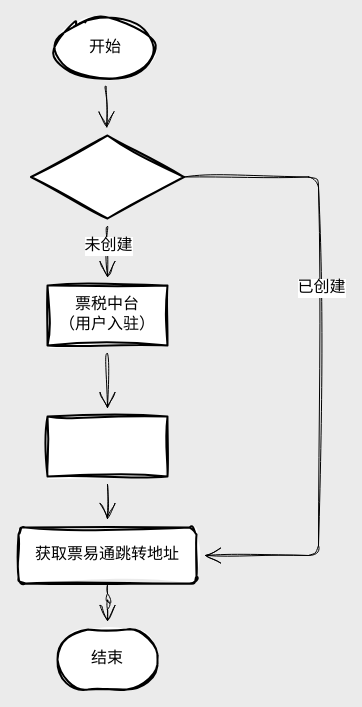
Some shapes in this 362 by 707 pixel diagram are drawn without their labels. Each missing label, with the centre of its shape:
用户是否创建？: point 107,176
票易通 （用户入驻）: point 107,446
